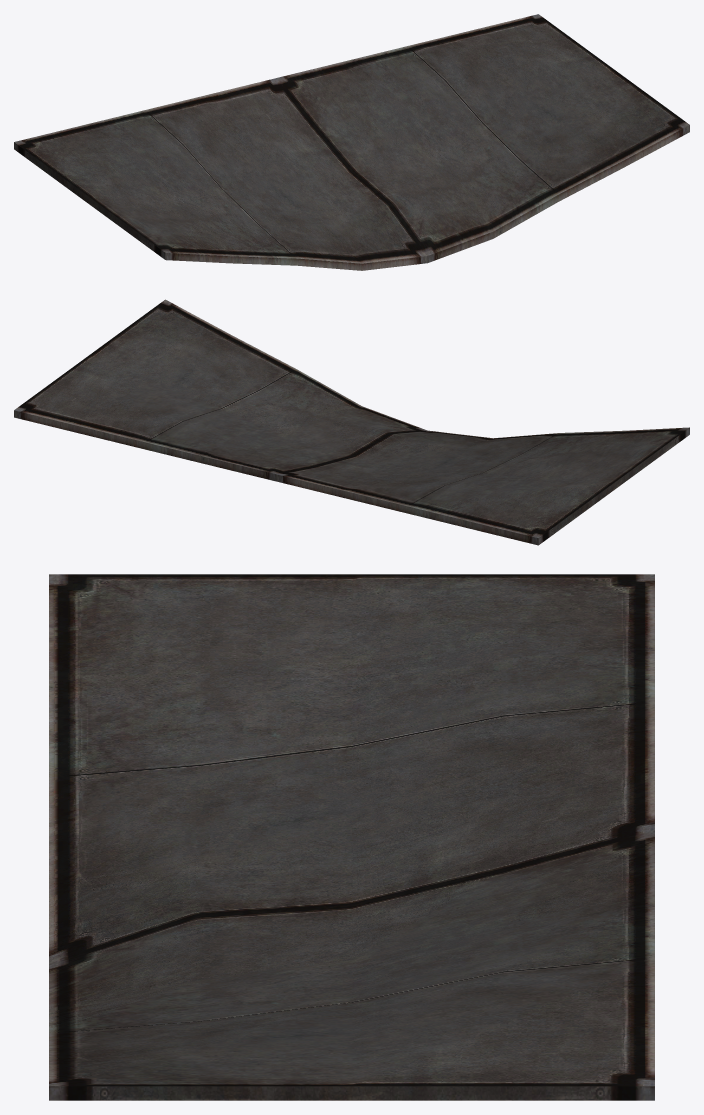
The model's file is pptiling_damaged02.dae.
The picture shows the model from 3 angles, top to bottom: view 1: azimuth 30°, elevation 25°; view 2: azimuth 150°, elevation 25°; view 3: azimuth 270°, elevation 25°; orthographic projection. The views are drawn at different scales.
Parts seen in each view (by area): view 1: pCube3; view 2: pCube3; view 3: pCube3.
Part boxes in pixels (x1,y1,x2,y2): pCube3: [14, 14, 689, 270]; pCube3: [14, 299, 689, 545]; pCube3: [49, 574, 654, 1100].
Bounding box in the file's own units: 4 × 0.5414 × 2.
